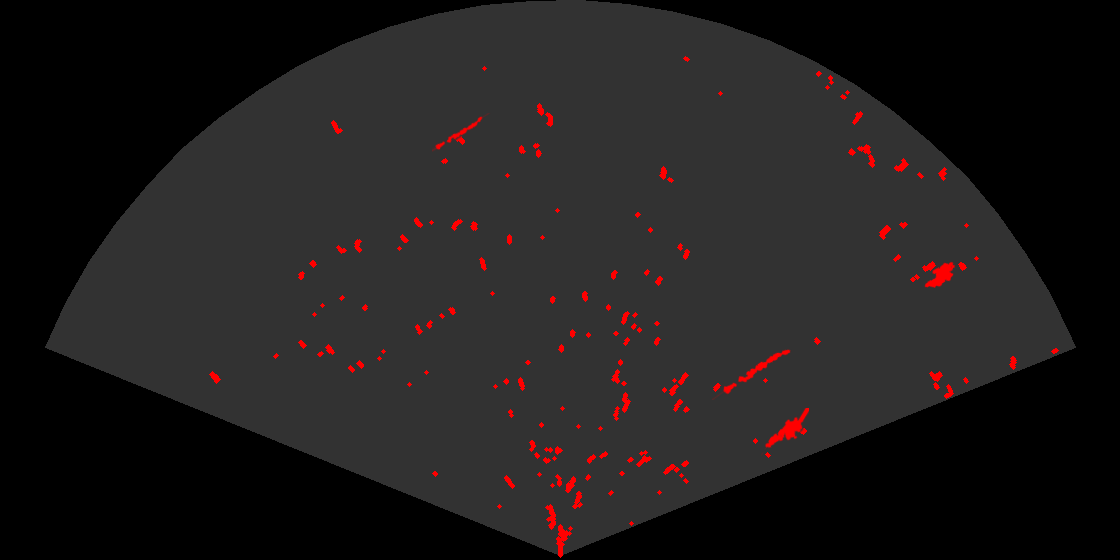AUV: (923, 260, 957, 289)
chain: (712, 348, 792, 400), (432, 113, 491, 153)
frogman: (761, 408, 809, 457)
